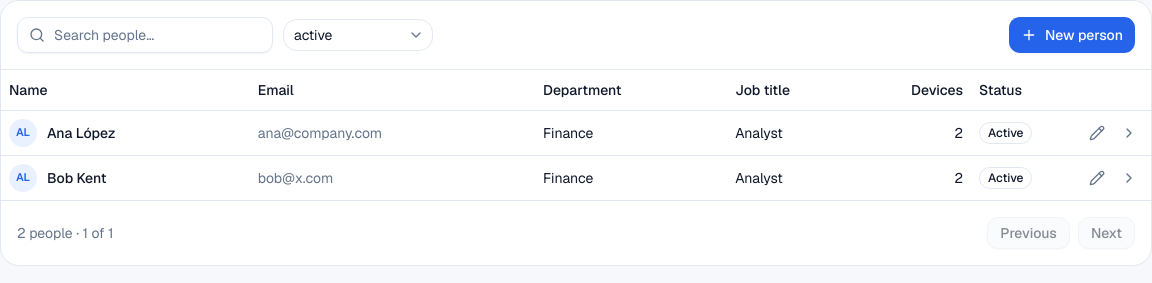
Scenario: PeopleDirectory — search (AC-2) › filters the list by name as the user types
Type "bob" into the field with placeholder "Search people…".
click(145, 35); type("bob")  # box left=17, top=17, right=273, bottom=53
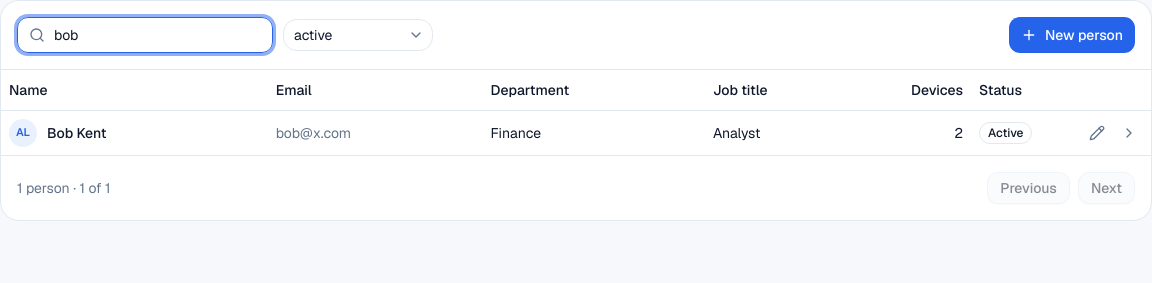
Check: the link "AL Bob Kent" is shown, box left=9, top=118, right=106, bottom=146
Check: the link "Ana López" is gone
